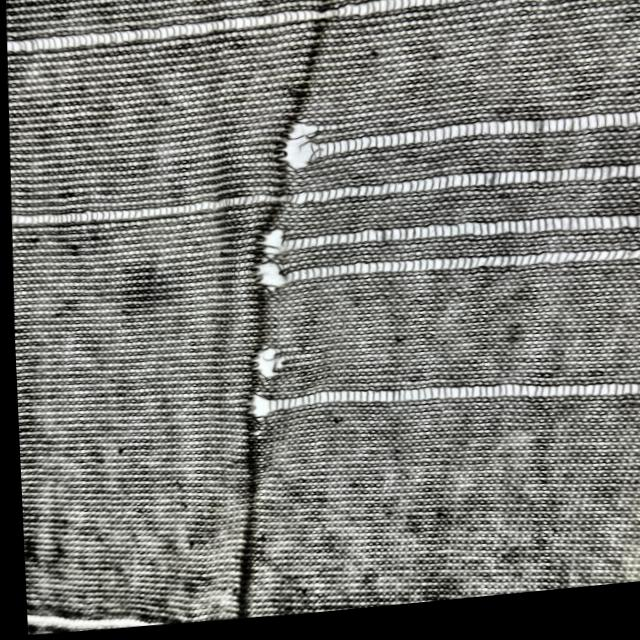Hole: (102, 256, 187, 318), (234, 342, 295, 385)
Stitch: (8, 150, 640, 247), (4, 0, 640, 64), (266, 87, 640, 186), (21, 568, 480, 640), (246, 363, 640, 443), (245, 201, 640, 280), (242, 246, 640, 315)
